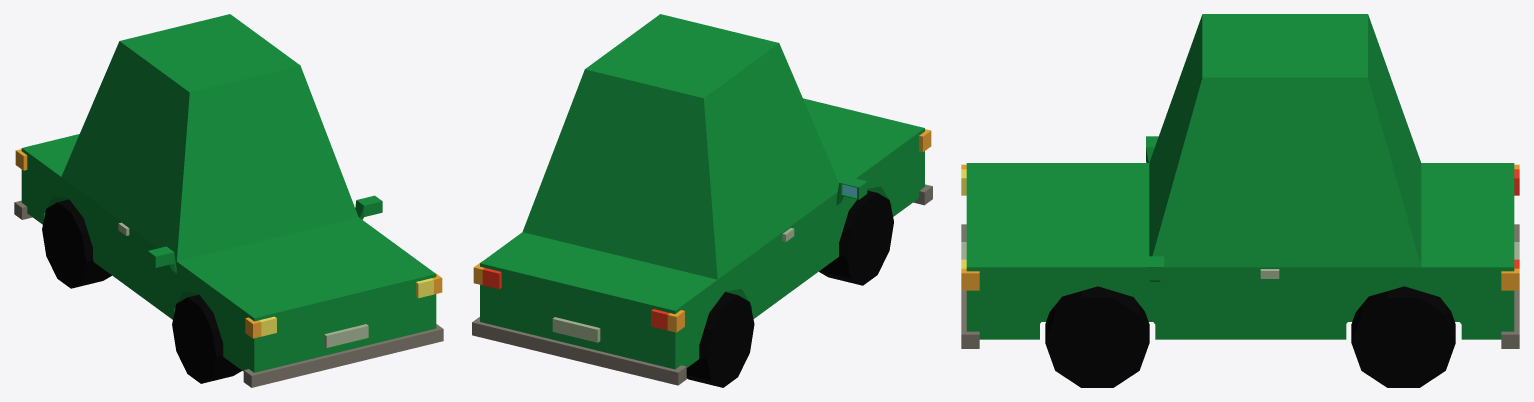
Rendered from BaseCar.fbx.
3 renders of one model, left to right at view 1: azimuth 30°, elevation 25°; view 2: azimuth 150°, elevation 25°; view 3: azimuth 270°, elevation 25°, orthographic. The views are drawn at different scales.
Parts seen in each view (by area): view 1: BaseCar; view 2: BaseCar; view 3: BaseCar.
Boxes of the visible parts, x1,y1,x2,y2 form: BaseCar: (14, 14, 443, 387); BaseCar: (472, 14, 932, 387); BaseCar: (961, 14, 1519, 387).
Size of the model in its own units: 250 by 256 by 452.
